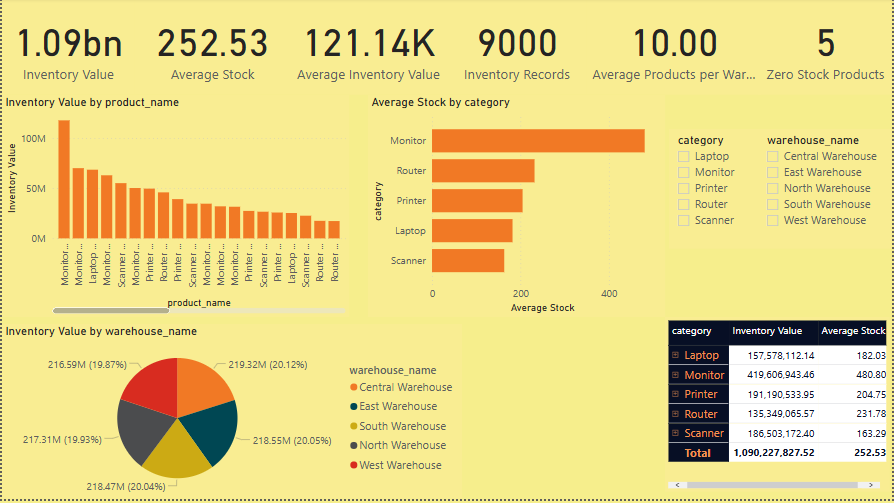

This screenshot's page, from the dashboard's own definition file:
{"tool":"powerbi","page":{"name":"Inventory Control Tower","canvas":[1280,720],"ordinal":2},"visuals":[{"type":"card","fields":{"Values":["MEASURE.Average Inventory Value"]},"box":[413.9,0,225.6,139.4],"z":0},{"type":"card","fields":{"Values":["MEASURE.Average Products per Warehouse"]},"box":[840.7,0,250.1,139.4],"z":1000},{"type":"card","fields":{"Values":["MEASURE.Average Stock"]},"box":[191.1,0,222.8,139.4],"z":2000},{"type":"card","fields":{"Values":["MEASURE.Inventory Records"]},"box":[639.5,0,201.2,139.4],"z":3000},{"type":"card","fields":{"Values":["MEASURE.Zero Stock Products"]},"box":[1086.5,0,194,139.4],"z":4000},{"type":"card","fields":{"Values":["MEASURE.Total Inventory Value"]},"box":[0,0,191.1,139.4],"z":5000},{"type":"columnChart","fields":{"Category":["dim_product.product_name"],"Y":["MEASURE.Total Inventory Value"]},"box":[0,139.4,498.7,319],"z":6000},{"type":"pieChart","fields":{"Category":["dim_warehouse.warehouse_name"],"Y":["MEASURE.Inventory Value"]},"box":[0,468.5,661.1,251.5],"z":7000},{"type":"clusteredBarChart","fields":{"Category":["dim_product.category"],"Y":["MEASURE.Average Stock"]},"box":[526,139.4,426.8,319],"z":8000},{"type":"pivotTable","fields":{"Rows":["dim_product.category","dim_product.product_name"],"Values":["MEASURE.Inventory Value","MEASURE.Average Stock"]},"box":[952.8,458.4,323.4,251.5],"z":9000},{"type":"slicer","fields":{"Values":["dim_product.category"]},"box":[958.6,188.3,127.9,172.5],"z":10000},{"type":"slicer","fields":{"Values":["dim_warehouse.warehouse_name"]},"box":[1086.5,188.3,194,172.5],"z":11000}]}

Visuals, with their boxes in screenshot pixels (x1, y1, x2, y2), scaled from the page's 1280x720 canvas onto the 894x503 screenshot:
card - MEASURE.Average Inventory Value: rect(289, 0, 447, 97)
card - MEASURE.Average Products per Warehouse: rect(587, 0, 762, 97)
card - MEASURE.Average Stock: rect(133, 0, 289, 97)
card - MEASURE.Inventory Records: rect(447, 0, 587, 97)
card - MEASURE.Zero Stock Products: rect(759, 0, 893, 97)
card - MEASURE.Total Inventory Value: rect(0, 0, 133, 97)
columnChart - dim_product.product_name x MEASURE.Total Inventory Value: rect(0, 97, 348, 320)
pieChart - dim_warehouse.warehouse_name x MEASURE.Inventory Value: rect(0, 327, 462, 502)
clusteredBarChart - dim_product.category x MEASURE.Average Stock: rect(367, 97, 665, 320)
pivotTable - dim_product.category x dim_product.product_name: rect(665, 320, 891, 496)
slicer - dim_product.category: rect(670, 132, 759, 252)
slicer - dim_warehouse.warehouse_name: rect(759, 132, 893, 252)
